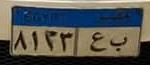1: (29, 29, 39, 53)
2: (42, 29, 57, 53)
3: (59, 32, 74, 51)
8: (14, 27, 25, 53)
ain: (90, 28, 107, 55)
baa: (109, 34, 128, 52)
